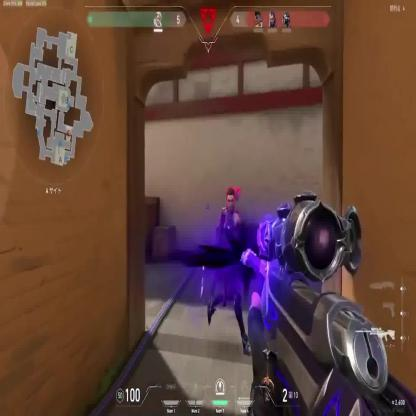enemy: (207, 187, 253, 358)
enemy_head: (225, 187, 239, 216)
